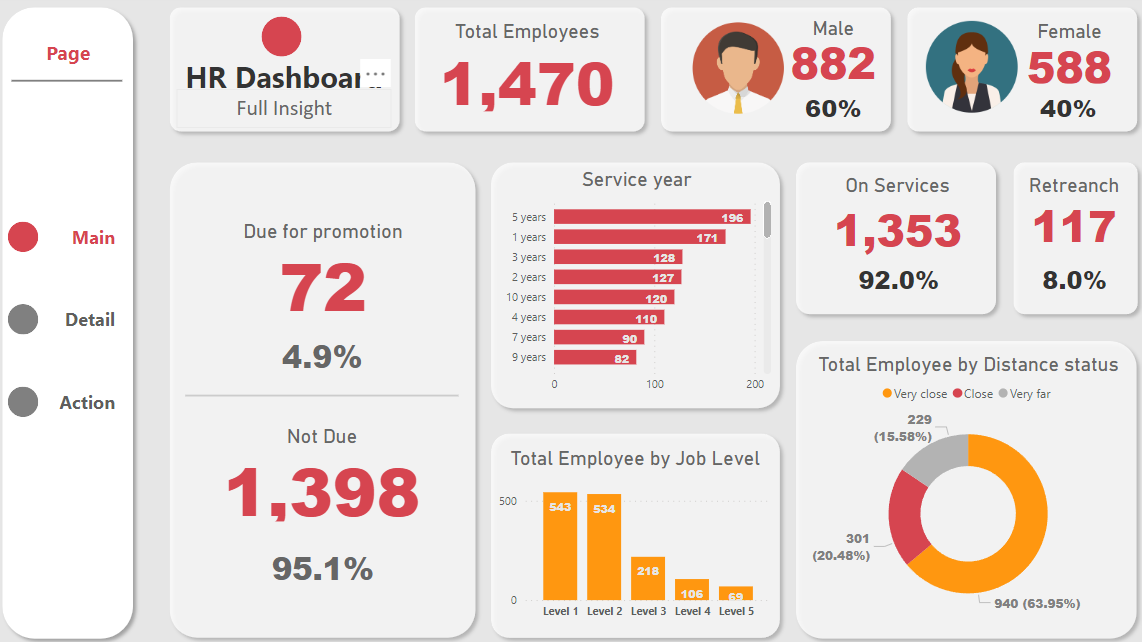

Layout of this report page (visuals, bound fields, positions):
{"tool":"powerbi","page":{"name":"Main","canvas":[1280,720],"ordinal":0},"visuals":[{"type":"shape","box":[0,4.8,161.6,711.6],"z":0},{"type":"shape","box":[183.3,4.8,270.2,154.4],"z":1000},{"type":"shape","box":[453.5,4.8,270.2,154.4],"z":2000},{"type":"shape","box":[723.6,4.8,270.2,154.4],"z":3000},{"type":"shape","box":[993.8,4.8,270.2,154.4],"z":4000},{"type":"shape","box":[183.3,176.1,353.4,540.3],"z":5000},{"type":"shape","box":[536.7,176.1,335.3,288.2],"z":6000},{"type":"shape","box":[536.7,474,335.3,242.4],"z":7000},{"type":"shape","box":[872,176.1,237.6,184.5],"z":8000},{"type":"shape","box":[1109.5,176.1,154.4,184.5],"z":9000},{"type":"shape","box":[872,371.5,392,344.9],"z":10000},{"type":"textbox","box":[200.2,65.1,236.4,60.3],"z":11000},{"type":"textbox","box":[200.2,103.7,236.4,43.4],"z":12000},{"type":"shape","box":[294.3,25.3,44,44],"z":13000},{"type":"card","title":"Total Employees","fields":{"Values":["Measure.Total Employee"]},"box":[447.4,28.9,276.2,104.9],"z":14000},{"type":"card","title":"Male","fields":{"Values":["Measure.Total Male"]},"box":[850.3,25.3,141.1,74.8],"z":15000},{"type":"card","title":"Male","fields":{"Values":["Measure.Percent Male"]},"box":[882.8,100.1,78.4,50.7],"z":16000},{"type":"card","title":"Male","fields":{"Values":["Measure.Percent Female"]},"box":[1140.9,100.1,78.4,50.7],"z":17000},{"type":"card","title":"Female","fields":{"Values":["Measure.Total Female"]},"box":[1109.5,28.9,141.1,74.8],"z":18000},{"type":"image","box":[761,26.5,111,111],"z":19000},{"type":"image","box":[1017.9,25.3,111,111],"z":20000},{"type":"card","title":"Due for promotion","fields":{"Values":["Measure.Total Due for promotion"]},"box":[253.3,247.7,214.7,111],"z":21000},{"type":"card","title":"Male","fields":{"Values":["Measure.Percent Due for"]},"box":[309.9,370.7,101.3,54.3],"z":22000},{"type":"card","title":"Not Due","fields":{"Values":["Measure.Total Not due"]},"box":[244.8,474,231.6,111],"z":23000},{"type":"card","title":"Male","fields":{"Values":["Measure.Percent Not Due"]},"box":[299.1,604.2,123,54.3],"z":24000},{"type":"shape","box":[209.8,424.5,300.3,33.8],"z":25000},{"type":"barChart","title":"Service year","fields":{"Category":["HR Analytics Data.Service year"],"Y":["Measure.Total Employee"]},"box":[553.6,190.6,305.1,255.7],"z":26000},{"type":"columnChart","fields":{"Category":["HR Analytics Data.Job Level"],"Y":["Measure.Total Employee"]},"box":[548.7,496.9,309.9,199],"z":27000},{"type":"card","title":"On Services","fields":{"Values":["Measure.On Service"]},"box":[886.4,197.8,211.1,95.3],"z":28000},{"type":"card","title":"Male","fields":{"Values":["Measure.Percent on services"]},"box":[934.7,293.1,118.2,42.2],"z":29000},{"type":"card","title":"Retreanch","fields":{"Values":["Measure.Will be retreanch"]},"box":[1101.1,197.8,170.1,85.6],"z":30000},{"type":"card","title":"Male","fields":{"Values":["Measure.Percent on retreanch"]},"box":[1127.6,293.1,117,42.2],"z":31000},{"type":"donutChart","fields":{"Category":["HR Analytics Data.Distance status"],"Y":["Measure.Total Employee"]},"box":[890.1,393.2,358.2,300.3],"z":32000},{"type":"actionButton","box":[15.7,238.8,129,54.3],"z":33000,"group":"g2"},{"type":"group","id":"g1","title":"Group 1","box":[15.7,329.2,129,54.3],"z":33000},{"type":"actionButton","box":[15.7,329.2,129,54.3],"z":33000,"group":"g1"},{"type":"actionButton","box":[15.7,419.7,129,54.3],"z":33000,"group":"g3"},{"type":"group","id":"g2","title":"Group 1","box":[15.7,238.8,129,54.3],"z":34000},{"type":"shape","box":[15.7,249.7,33.8,33.8],"z":34000,"group":"g2"},{"type":"shape","box":[15.7,340.1,33.8,33.8],"z":34000,"group":"g1"},{"type":"shape","box":[15.7,430.6,33.8,33.8],"z":34000,"group":"g3"},{"type":"textbox","box":[19.2,43.9,124.9,38.4],"z":35000},{"type":"shape","box":[19.3,89.2,121.8,12.1],"z":36000},{"type":"group","id":"g3","title":"Group 1","box":[15.7,419.7,129,54.3],"z":37000}]}

Visuals, with their boxes in screenshot pixels (x1, y1, x2, y2), scaled from the page's 1280x720 canvas onto the 1142x642 screenshot:
shape: BBox(0, 4, 144, 639)
shape: BBox(164, 4, 405, 142)
shape: BBox(405, 4, 646, 142)
shape: BBox(646, 4, 887, 142)
shape: BBox(887, 4, 1128, 142)
shape: BBox(164, 157, 479, 639)
shape: BBox(479, 157, 778, 414)
shape: BBox(479, 423, 778, 639)
shape: BBox(778, 157, 990, 322)
shape: BBox(990, 157, 1128, 322)
shape: BBox(778, 331, 1128, 639)
textbox: BBox(179, 58, 390, 112)
textbox: BBox(179, 92, 390, 131)
shape: BBox(263, 23, 302, 62)
"Total Employees" card: BBox(399, 26, 646, 119)
"Male" card: BBox(759, 23, 885, 89)
"Male" card: BBox(788, 89, 858, 134)
"Male" card: BBox(1018, 89, 1088, 134)
"Female" card: BBox(990, 26, 1116, 92)
image: BBox(679, 24, 778, 123)
image: BBox(908, 23, 1007, 122)
"Due for promotion" card: BBox(226, 221, 418, 320)
"Male" card: BBox(276, 331, 367, 379)
"Not Due" card: BBox(218, 423, 425, 522)
"Male" card: BBox(267, 539, 377, 587)
shape: BBox(187, 379, 455, 409)
"Service year" barChart: BBox(494, 170, 766, 398)
columnChart - HR Analytics Data.Job Level x Measure.Total Employee: BBox(490, 443, 766, 621)
"On Services" card: BBox(791, 176, 979, 261)
"Male" card: BBox(834, 261, 939, 299)
"Retreanch" card: BBox(982, 176, 1134, 253)
"Male" card: BBox(1006, 261, 1110, 299)
donutChart - HR Analytics Data.Distance status x Measure.Total Employee: BBox(794, 351, 1114, 618)
actionButton: BBox(14, 213, 129, 261)
"Group 1" group: BBox(14, 294, 129, 342)
actionButton: BBox(14, 294, 129, 342)
actionButton: BBox(14, 374, 129, 423)
"Group 1" group: BBox(14, 213, 129, 261)
shape: BBox(14, 223, 44, 253)
shape: BBox(14, 303, 44, 333)
shape: BBox(14, 384, 44, 414)
textbox: BBox(17, 39, 129, 73)
shape: BBox(17, 80, 126, 90)
"Group 1" group: BBox(14, 374, 129, 423)
